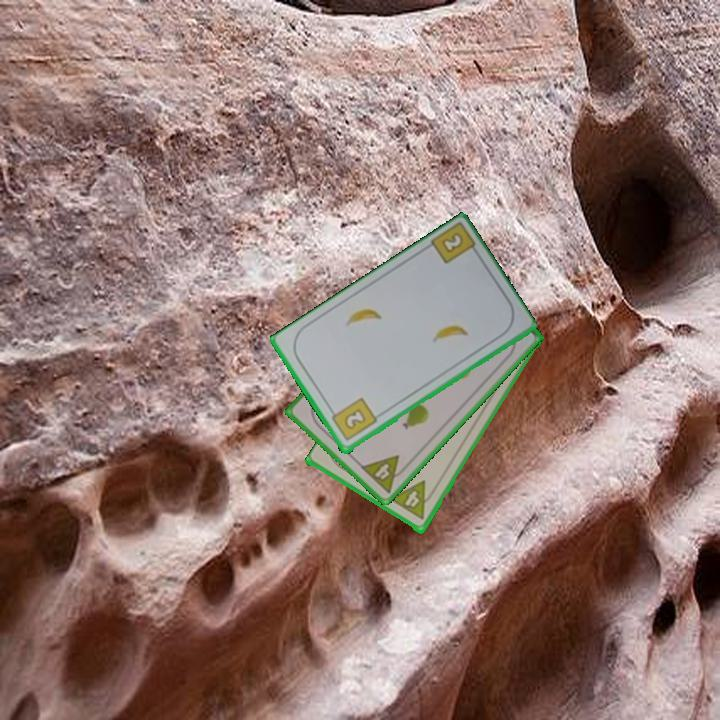2b: (327, 395, 380, 444), (438, 229, 466, 256)
4p: (357, 452, 412, 496), (387, 478, 439, 523)
